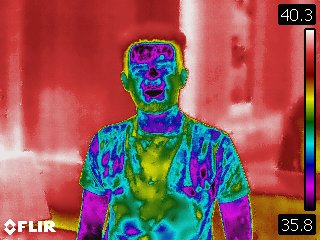human: (75, 25, 258, 240)
